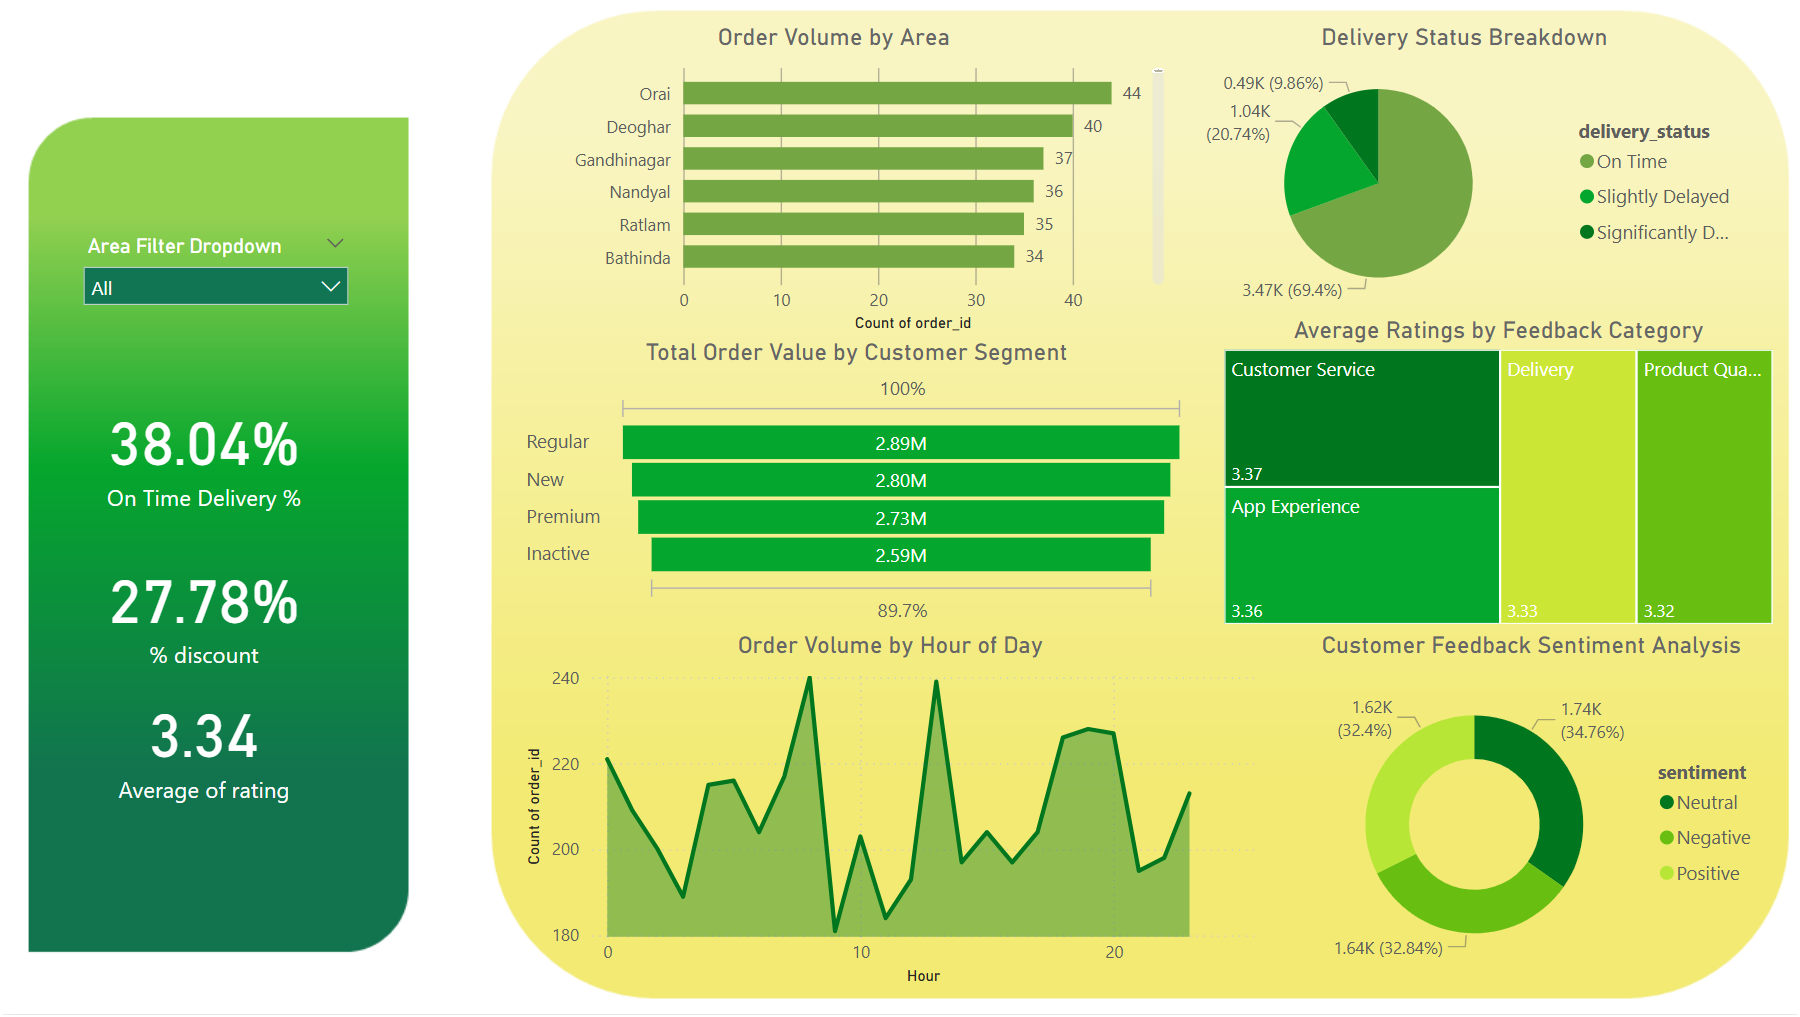

What the dashboard file says about the page in this screenshot:
{"tool":"powerbi","page":{"name":"Dashboard 2","canvas":[1280,720],"ordinal":1},"visuals":[{"type":"card","fields":{"Values":["blinkit_delivery_performance.On Time Delivery %"]},"box":[48,272,192,96],"z":0},{"type":"card","fields":{"Values":["Measure Table.% discount"]},"box":[48,384,192,96],"z":1000},{"type":"card","fields":{"Values":["Avg(blinkit_customer_feedback.rating)"]},"box":[48,480,192,96],"z":2000},{"type":"pieChart","title":"Delivery Status Breakdown","fields":{"Category":["blinkit_delivery_performance.delivery_status"],"Y":["CountNonNull(blinkit_orders.order_total)"]},"box":[832,16,416,208],"z":3000},{"type":"clusteredBarChart","title":"Order Volume by Area","fields":{"Category":["blinkit_customers.area"],"Y":["CountNonNull(blinkit_customer_feedback.order_id)"]},"box":[352,16,480,224],"z":4000},{"type":"donutChart","title":"Customer Feedback Sentiment Analysis","fields":{"Category":["blinkit_customer_feedback.sentiment"],"Y":["CountNonNull(blinkit_customer_feedback.feedback_id)"]},"box":[912,448,352,256],"z":5000},{"type":"lineChart","title":"Order Volume by Hour of Day","fields":{"Category":["blinkit_orders.Hour"],"Y":["CountNonNull(blinkit_orders.order_id)"]},"box":[368,448,528,256],"z":6000},{"type":"funnel","title":"Total Order Value by Customer Segment","fields":{"Category":["blinkit_customers.customer_segment"],"Y":["Sum(blinkit_orders.order_total)"]},"box":[368,240,480,208],"z":7000},{"type":"treemap","title":"Average Ratings by Feedback Category","fields":{"Group":["blinkit_customer_feedback.feedback_category"],"Values":["Avg(blinkit_customer_feedback.rating)"]},"box":[864,224,400,224],"z":8000},{"type":"slicer","fields":{"Values":["blinkit_customers.area"]},"box":[48,160,208,80],"z":9000}]}

Visuals, with their boxes in screenshot pixels (x1, y1, x2, y2), scaled from the page's 1280x720 canvas onto the 1800x1017 screenshot:
card - blinkit_delivery_performance.On Time Delivery %: box(68, 384, 338, 520)
card - Measure Table.% discount: box(68, 542, 338, 678)
card - Avg(blinkit_customer_feedback.rating): box(68, 678, 338, 814)
"Delivery Status Breakdown" pieChart: box(1170, 23, 1755, 316)
"Order Volume by Area" clusteredBarChart: box(495, 23, 1170, 339)
"Customer Feedback Sentiment Analysis" donutChart: box(1282, 633, 1778, 994)
"Order Volume by Hour of Day" lineChart: box(518, 633, 1260, 994)
"Total Order Value by Customer Segment" funnel: box(518, 339, 1192, 633)
"Average Ratings by Feedback Category" treemap: box(1215, 316, 1778, 633)
slicer - blinkit_customers.area: box(68, 226, 360, 339)
